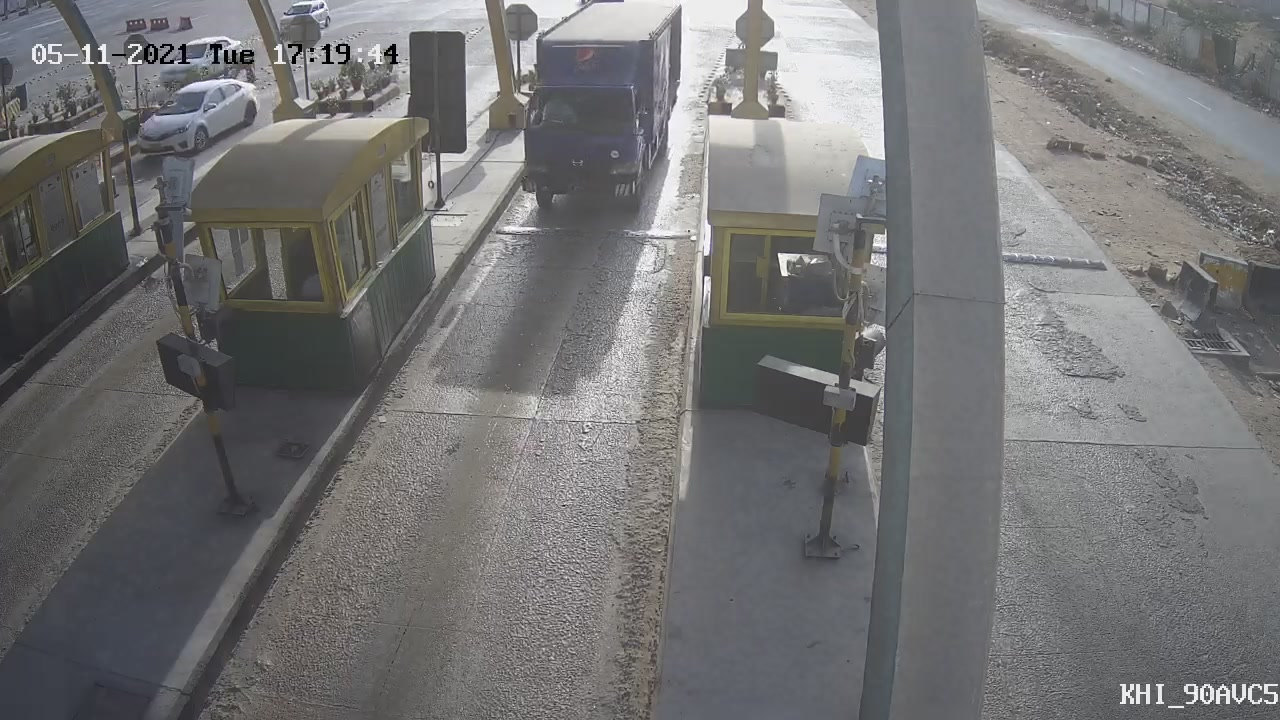F5: (496, 1, 694, 229)
